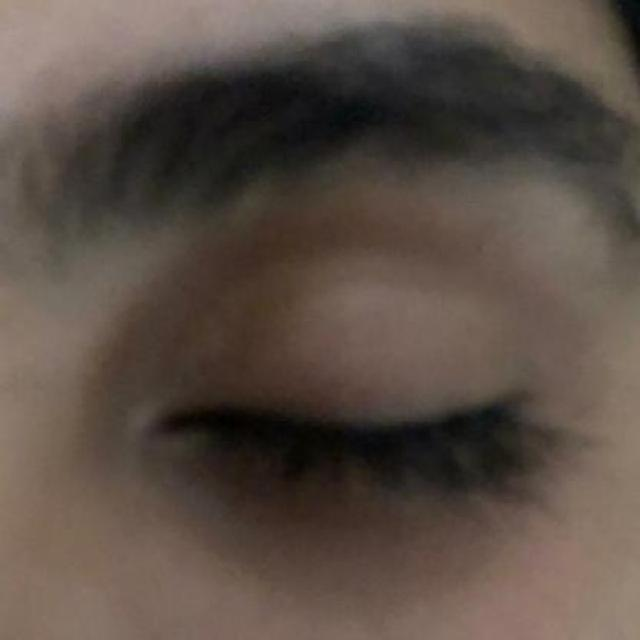drowsy: (153, 334, 532, 558)
